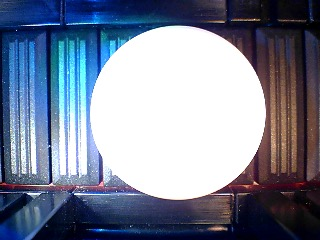BLANK: (89, 25, 267, 200)
